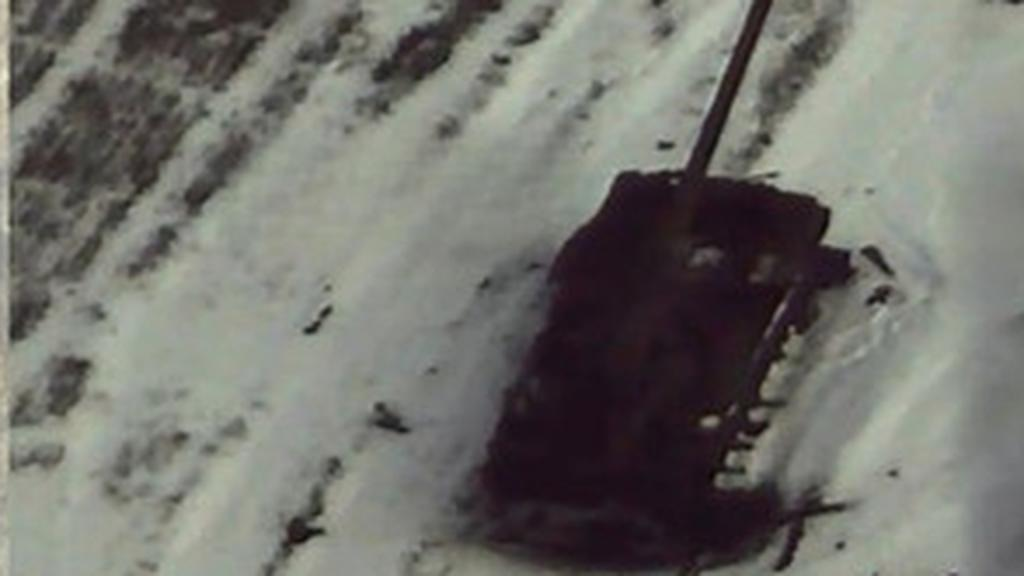ART: (454, 2, 844, 528)
